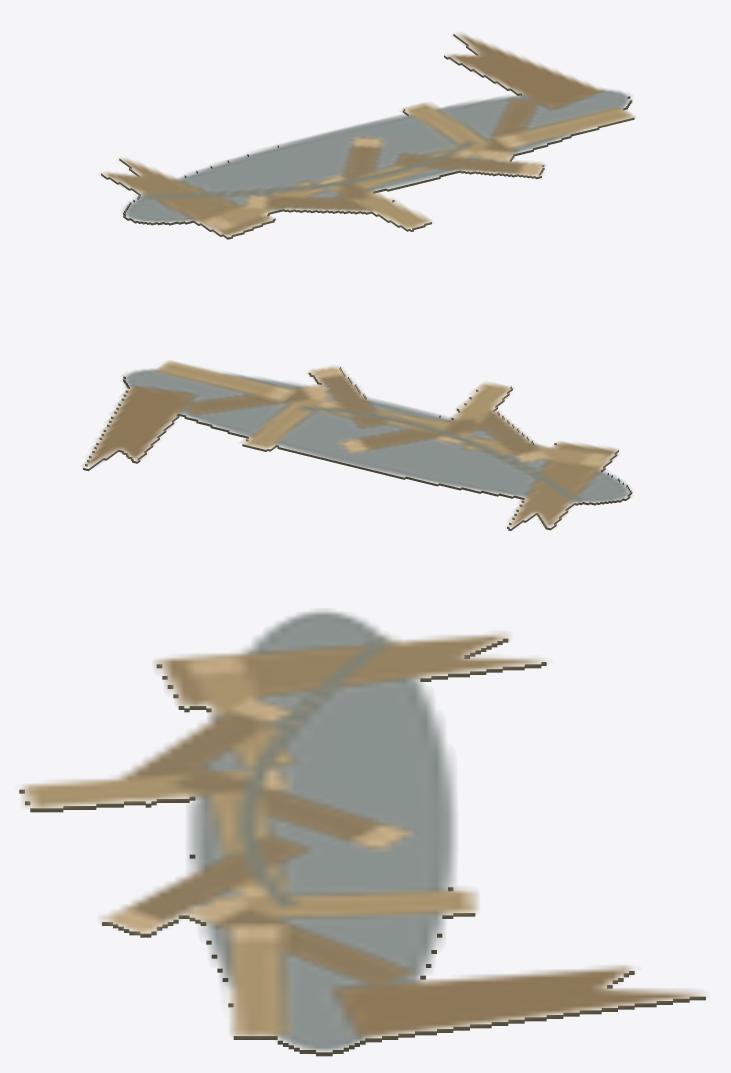
The model's file is BrokenBarricade.glb.
3 renders of one model, top to bottom at view 1: azimuth 30°, elevation 25°; view 2: azimuth 150°, elevation 25°; view 3: azimuth 270°, elevation 25°, orthographic. The views are drawn at different scales.
Visible parts, largest first — view 1: Visual; view 2: Visual; view 3: Visual.
Part boxes in pixels (x1,y1,x2,y2): Visual: (100,33,634,239); Visual: (83,361,632,530); Visual: (19,611,705,1056).
Size of the model in its own units: 4.88 by 0.02 by 3.25.
Materials: 3 (2 with a texture image).
